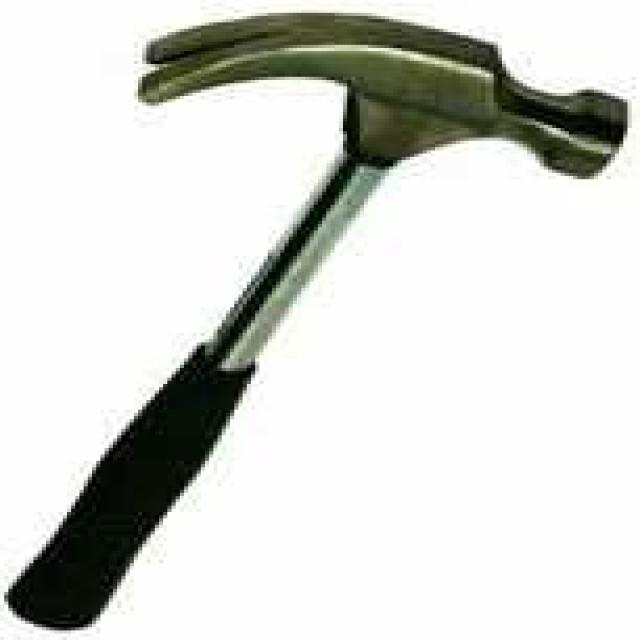hammer: (12, 8, 640, 639)
